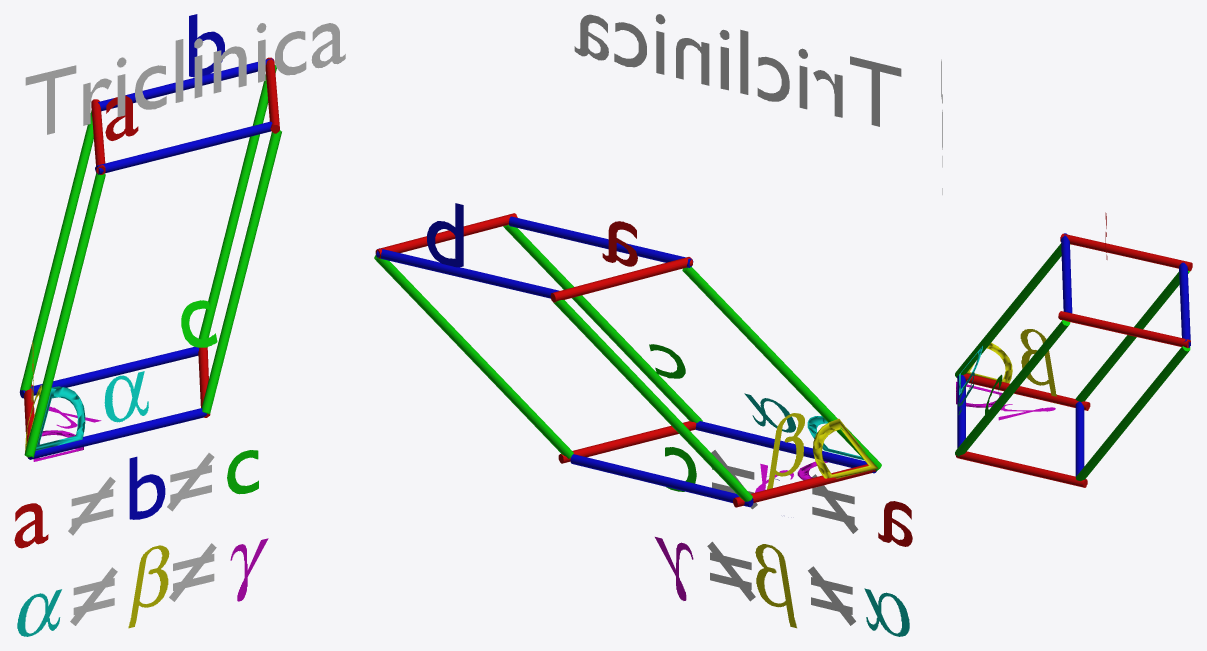
File: triclinica.obj.obj
The picture shows the model from 3 angles, left to right: view 1: azimuth 30°, elevation 25°; view 2: azimuth 150°, elevation 25°; view 3: azimuth 270°, elevation 25°; orthographic projection. The views are drawn at different scales.
Parts seen in each view (by area): view 1: Text.134_Text.119, Cylinder.096_Cylinder.120, Cylinder.093_Cylinder.117, Cylinder.091_Cylinder.115, Cylinder.095_Cylinder.119, Cylinder.086_Cylinder.110, Cylinder.085_Cylinder.109, Cylinder.089_Cylinder.113, Text.095_Text.100, Cylinder.090_Cylinder.114, Text.102_Text.107, Sphere.051_Sphere.104 (+16 smaller); view 2: Text.134_Text.119, Cylinder.091_Cylinder.115, Cylinder.095_Cylinder.119, Cylinder.096_Cylinder.120, Cylinder.093_Cylinder.117, Cylinder.090_Cylinder.114, Cylinder.089_Cylinder.113, Cylinder.086_Cylinder.110, Cylinder.085_Cylinder.109, Cylinder.094_Cylinder.118, Sphere.056_Sphere.105, Cylinder.087_Cylinder.111 (+8 smaller); view 3: Cylinder.096_Cylinder.120, Cylinder.095_Cylinder.119, Cylinder.093_Cylinder.117, Cylinder.091_Cylinder.115, Cylinder.088_Cylinder.112, Cylinder.087_Cylinder.111, Cylinder.094_Cylinder.118, Cylinder.092_Cylinder.116, Cylinder.090_Cylinder.114, Text.070_Text.071, Cylinder.086_Cylinder.110, Cylinder.089_Cylinder.113 (+2 smaller).
Boxes of the visible parts, <box> form: Text.134_Text.119: <box>25,23,345,134</box>; Cylinder.096_Cylinder.120: <box>201,130,281,414</box>; Cylinder.093_Cylinder.117: <box>24,173,105,457</box>; Cylinder.091_Cylinder.115: <box>20,110,93,390</box>; Cylinder.095_Cylinder.119: <box>198,65,276,339</box>; Cylinder.086_Cylinder.110: <box>95,121,272,174</box>; Cylinder.085_Cylinder.109: <box>27,408,206,459</box>; Cylinder.089_Cylinder.113: <box>19,346,198,398</box>; Text.095_Text.100: <box>129,456,165,519</box>; Cylinder.090_Cylinder.114: <box>98,58,273,111</box>; Text.102_Text.107: <box>128,545,169,628</box>; Sphere.051_Sphere.104: <box>35,386,85,450</box>; Text.134_Text.119: <box>574,14,901,126</box>; Cylinder.091_Cylinder.115: <box>554,300,752,501</box>; Cylinder.095_Cylinder.119: <box>374,255,573,458</box>; Cylinder.096_Cylinder.120: <box>503,224,702,422</box>; Cylinder.093_Cylinder.117: <box>682,267,881,471</box>; Cylinder.090_Cylinder.114: <box>376,248,559,298</box>; Cylinder.089_Cylinder.113: <box>570,454,753,507</box>; Cylinder.086_Cylinder.110: <box>509,216,693,267</box>; Cylinder.085_Cylinder.109: <box>695,421,876,473</box>; Cylinder.094_Cylinder.118: <box>550,257,692,302</box>; Sphere.056_Sphere.105: <box>813,418,877,478</box>; Cylinder.087_Cylinder.111: <box>558,421,696,463</box>; Cylinder.096_Cylinder.120: <box>955,320,1070,456</box>; Cylinder.095_Cylinder.119: <box>1076,346,1190,480</box>; Cylinder.093_Cylinder.117: <box>955,243,1070,377</box>; Cylinder.091_Cylinder.115: <box>1075,271,1189,401</box>; Cylinder.088_Cylinder.112: <box>1058,311,1190,348</box>; Cylinder.087_Cylinder.111: <box>956,451,1087,487</box>; Cylinder.094_Cylinder.118: <box>1060,233,1192,271</box>; Cylinder.092_Cylinder.116: <box>963,373,1090,410</box>; Cylinder.090_Cylinder.114: <box>1179,262,1190,347</box>; Text.070_Text.071: <box>1020,329,1057,403</box>; Cylinder.086_Cylinder.110: <box>1061,233,1072,313</box>; Cylinder.089_Cylinder.113: <box>1075,401,1084,476</box>.
Bounding box in the file's own units: 1.54 × 2.14 × 0.924.
